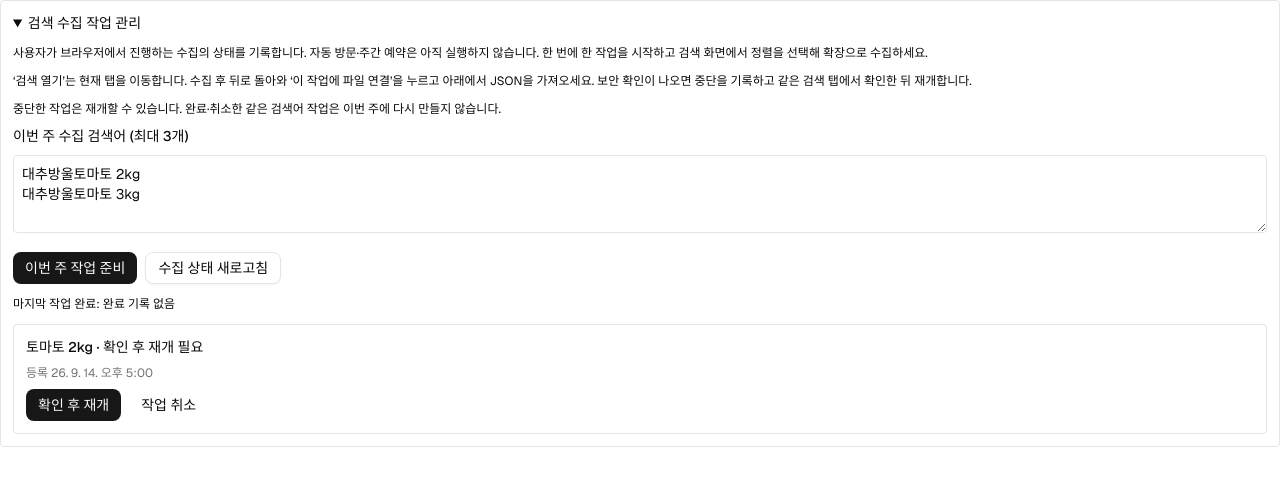
Test case: keeps a stale-version error visible and does not select a supposedly running job
Click the button "확인 후 재개": [74, 405] box [26,389,121,421]
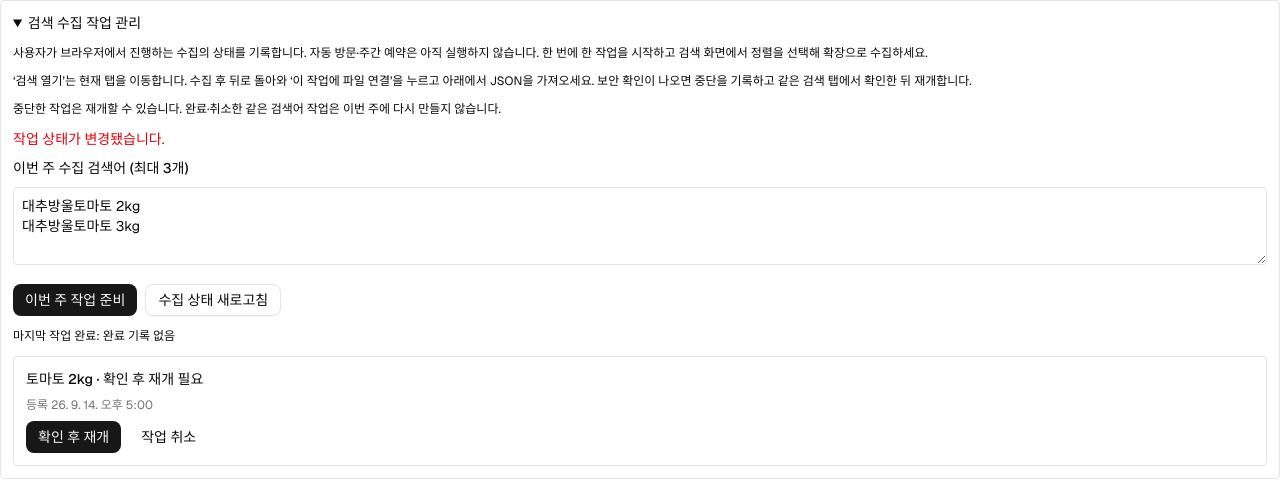
expect the message reads "작업 상태가 변경됐습니다.": met, box [13,130,164,148]
